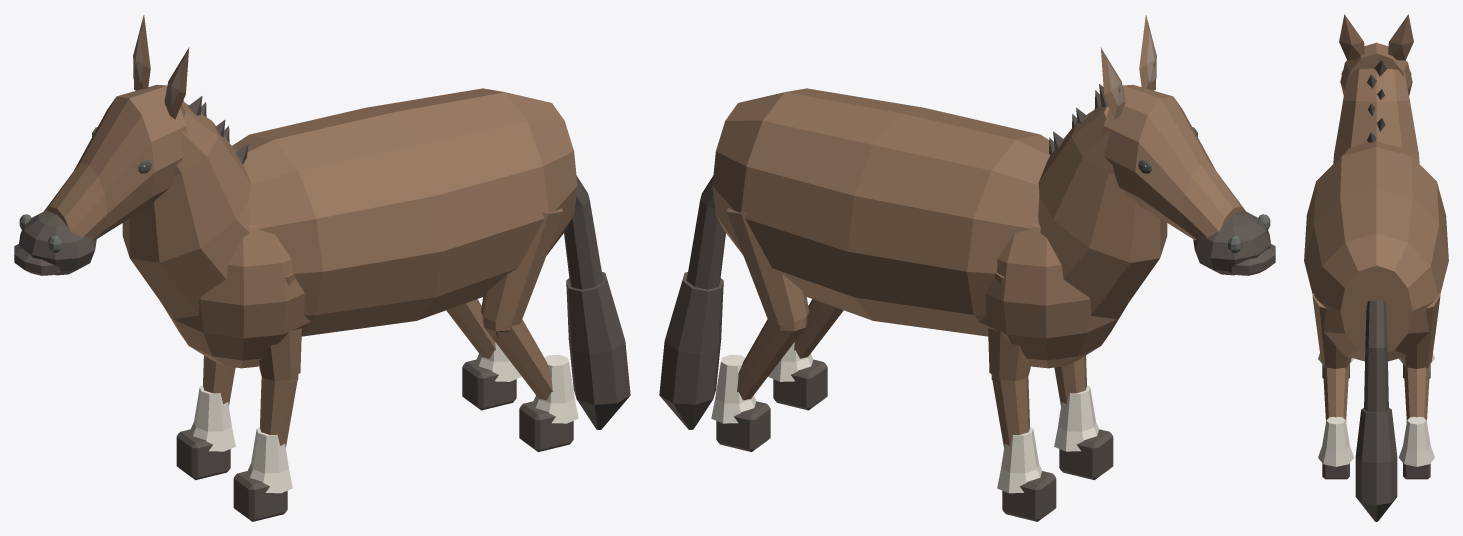
The model's file is horse.glb.
The picture shows the model from 3 angles, left to right: view 1: azimuth 30°, elevation 25°; view 2: azimuth 150°, elevation 25°; view 3: azimuth 270°, elevation 25°; orthographic projection. The views are drawn at different scales.
Parts seen in each view (by area): view 1: body_coat, Upright_Neck, Long_Equine_Head, tail_coatTop, head_coatTop, hindL_Upper, hindLLower_coat, foreR_Sock, foreL_Sock, foreLLower_coat, hindR_Hoof, foreR_Hoof (+7 smaller); view 2: body_coat, Upright_Neck, Long_Equine_Head, tail_coatTop, head_coatTop, hindR_Upper, hindRLower_coat, foreL_Sock, foreR_Sock, foreRLower_coat, foreL_Hoof, hindL_Hoof (+7 smaller); view 3: body_coat, tail_coatTop, Upright_Neck, Long_Equine_Head, hindL_Sock, hindR_Sock, hindLLower_coat, hindRLower_coat, hindR_Upper, hindL_Upper, ear1_Outer, ear-1_Outer (+3 smaller).
Boxes of the visible parts, x1,y1,x2,y2 form: body_coat: [162, 88, 577, 368]; Upright_Neck: [122, 101, 251, 319]; Long_Equine_Head: [44, 84, 186, 240]; tail_coatTop: [564, 176, 630, 429]; head_coatTop: [14, 210, 96, 275]; hindL_Upper: [481, 208, 563, 325]; hindLLower_coat: [482, 316, 552, 400]; foreR_Sock: [191, 385, 235, 451]; foreL_Sock: [247, 427, 292, 493]; foreLLower_coat: [260, 374, 298, 447]; hindR_Hoof: [462, 359, 516, 410]; foreR_Hoof: [176, 429, 230, 480]; body_coat: [712, 88, 1127, 368]; Upright_Neck: [1038, 105, 1167, 319]; Long_Equine_Head: [1103, 84, 1245, 240]; tail_coatTop: [659, 176, 725, 429]; head_coatTop: [1193, 210, 1275, 275]; hindR_Upper: [726, 208, 808, 325]; hindRLower_coat: [737, 316, 807, 400]; foreL_Sock: [1054, 385, 1098, 451]; foreR_Sock: [997, 427, 1042, 493]; foreRLower_coat: [991, 374, 1029, 447]; foreL_Hoof: [1059, 429, 1113, 480]; hindL_Hoof: [773, 359, 827, 410]; body_coat: [1304, 141, 1448, 361]; tail_coatTop: [1355, 301, 1397, 521]; Upright_Neck: [1333, 68, 1419, 163]; Long_Equine_Head: [1340, 42, 1412, 95]; hindL_Sock: [1318, 417, 1353, 466]; hindR_Sock: [1399, 417, 1434, 466]; hindLLower_coat: [1322, 364, 1349, 421]; hindRLower_coat: [1403, 364, 1430, 421]; hindR_Upper: [1401, 293, 1440, 368]; hindL_Upper: [1312, 293, 1351, 368]; ear1_Outer: [1388, 14, 1413, 60]; ear-1_Outer: [1339, 14, 1364, 60].
Bounding box in the file's own units: 0.8723 × 0.6909 × 0.2538.
